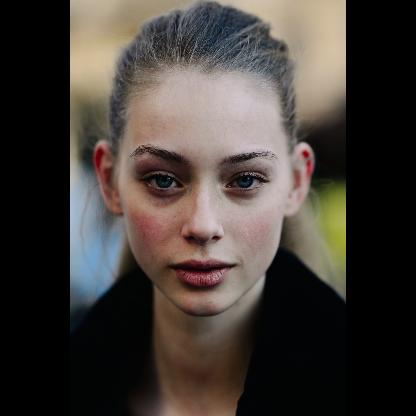Female: (92, 64, 314, 314)
